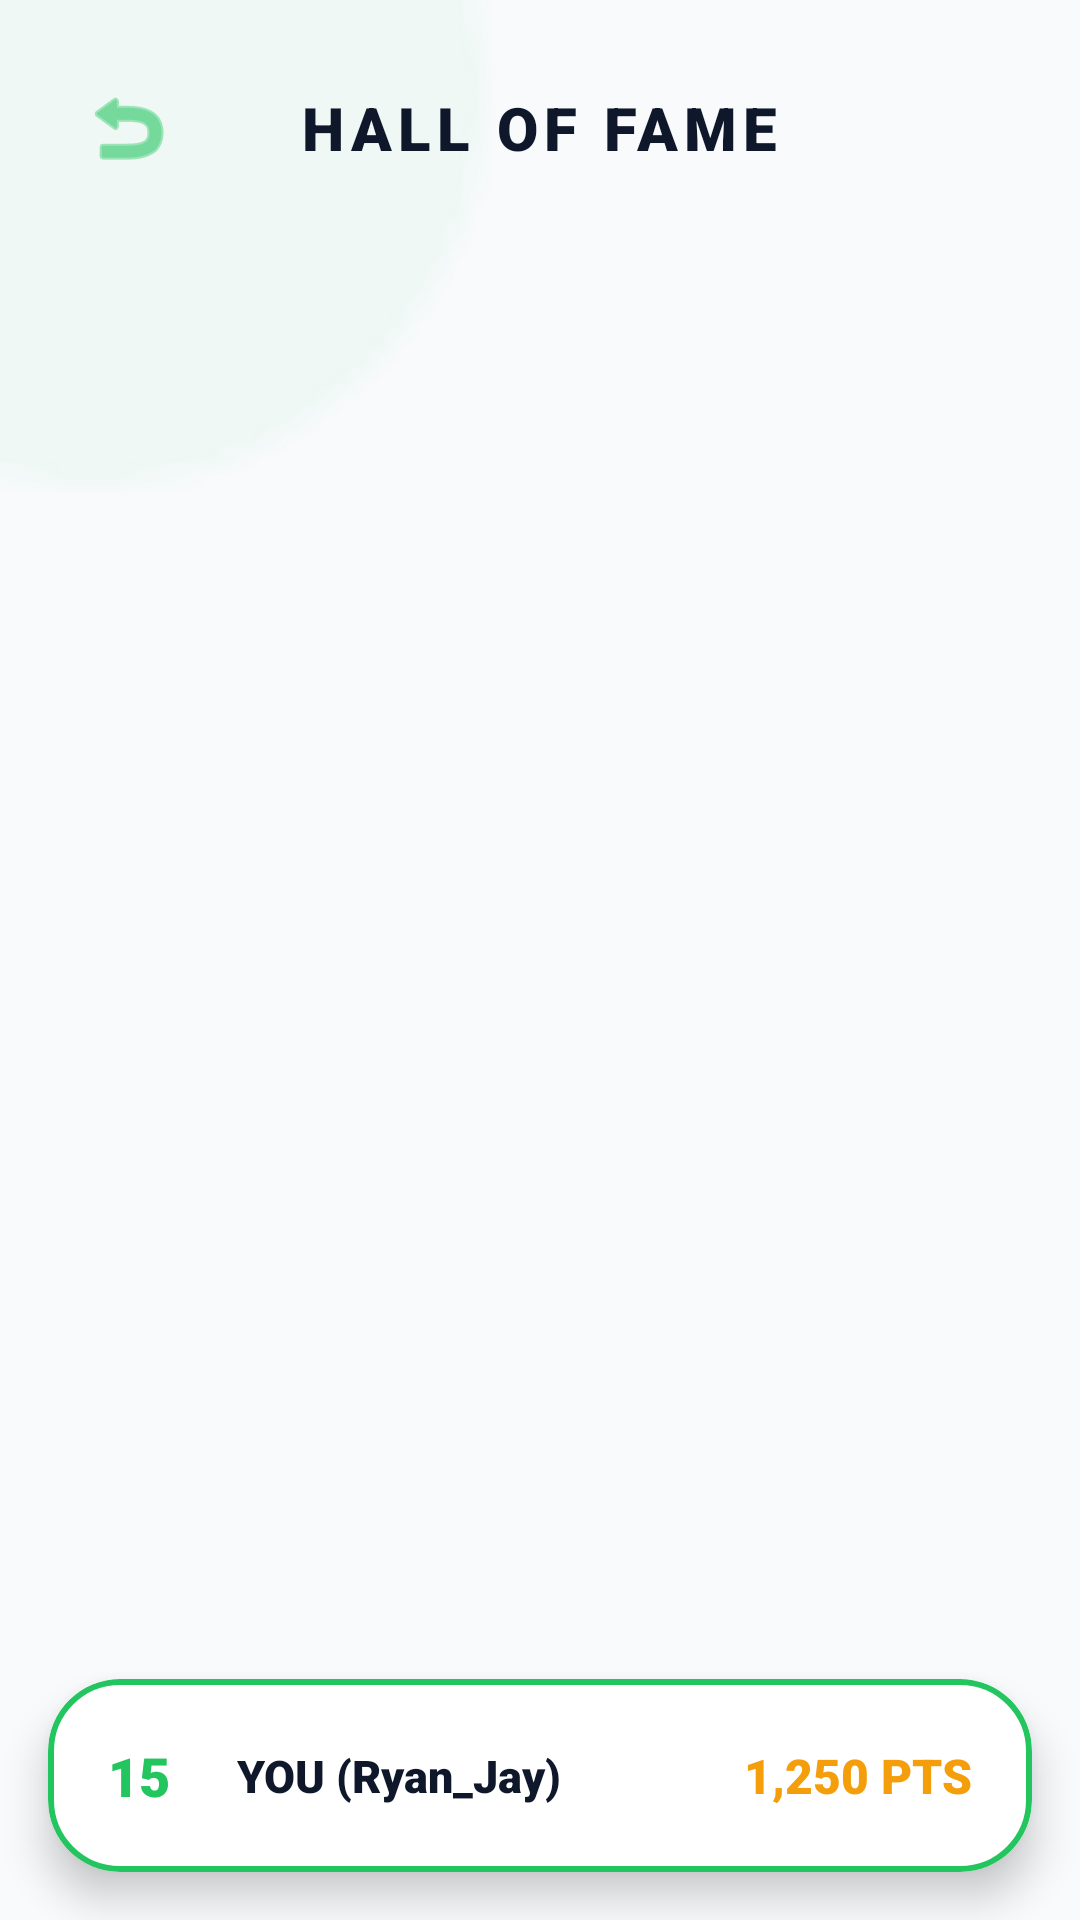

Screen size 1080×1920. Icon name, then its box in pixels as (x1, y1, x2, y2):
revert: (95, 97, 164, 160)
